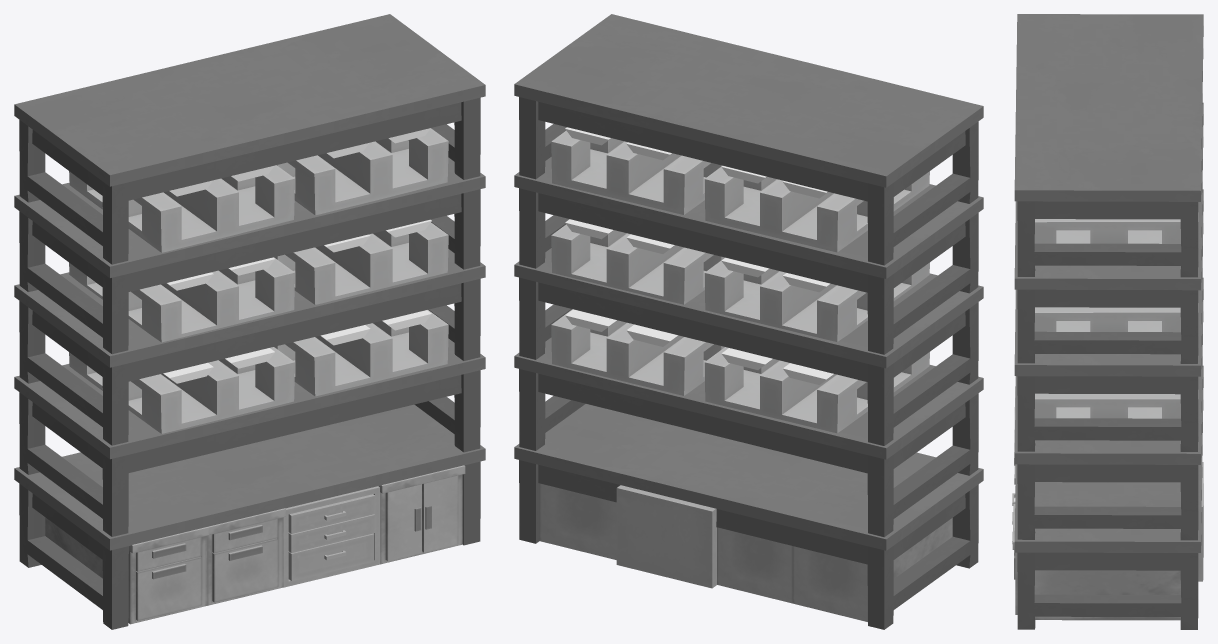
The model's file is Pfb_JLAB_PurpleShelf_Temp.fbx.
3 views of the same model, side by side, from view 1: azimuth 30°, elevation 25°; view 2: azimuth 150°, elevation 25°; view 3: azimuth 270°, elevation 25° (orthographic). The views are drawn at different scales.
Parts seen in each view (by area): view 1: Mat_Table_02_White_JLAB, Mat_PlasticPallet_01, Kitchen, Kitchen 4, Mat_Emission; view 2: Mat_Table_02_White_JLAB, Mat_PlasticPallet_01, Kitchen, Kitchen 4, Mat_Emission; view 3: Mat_Table_02_White_JLAB, Mat_PlasticPallet_01, Kitchen, Kitchen 4.
Boxes of the visible parts, x1=… form: Mat_Table_02_White_JLAB: x1=14, y1=14, x2=485, y2=629; Mat_PlasticPallet_01: x1=69, y1=128, x2=448, y2=433; Kitchen: x1=45, y1=465, x2=465, y2=624; Kitchen 4: x1=283, y1=486, x2=379, y2=587; Mat_Emission: x1=163, y1=128, x2=431, y2=383; Mat_Table_02_White_JLAB: x1=514, y1=14, x2=983, y2=629; Mat_PlasticPallet_01: x1=551, y1=130, x2=929, y2=433; Kitchen: x1=539, y1=483, x2=952, y2=621; Kitchen 4: x1=616, y1=485, x2=716, y2=588; Mat_Emission: x1=565, y1=127, x2=834, y2=384; Mat_Table_02_White_JLAB: x1=1014, y1=14, x2=1203, y2=629; Mat_PlasticPallet_01: x1=1034, y1=202, x2=1198, y2=436; Kitchen: x1=1012, y1=386, x2=1180, y2=620; Kitchen 4: x1=1012, y1=462, x2=1203, y2=581.
Bounding box in the file's own units: 2.78 × 3.24 × 1.27.
5 materials, 5 textured.
